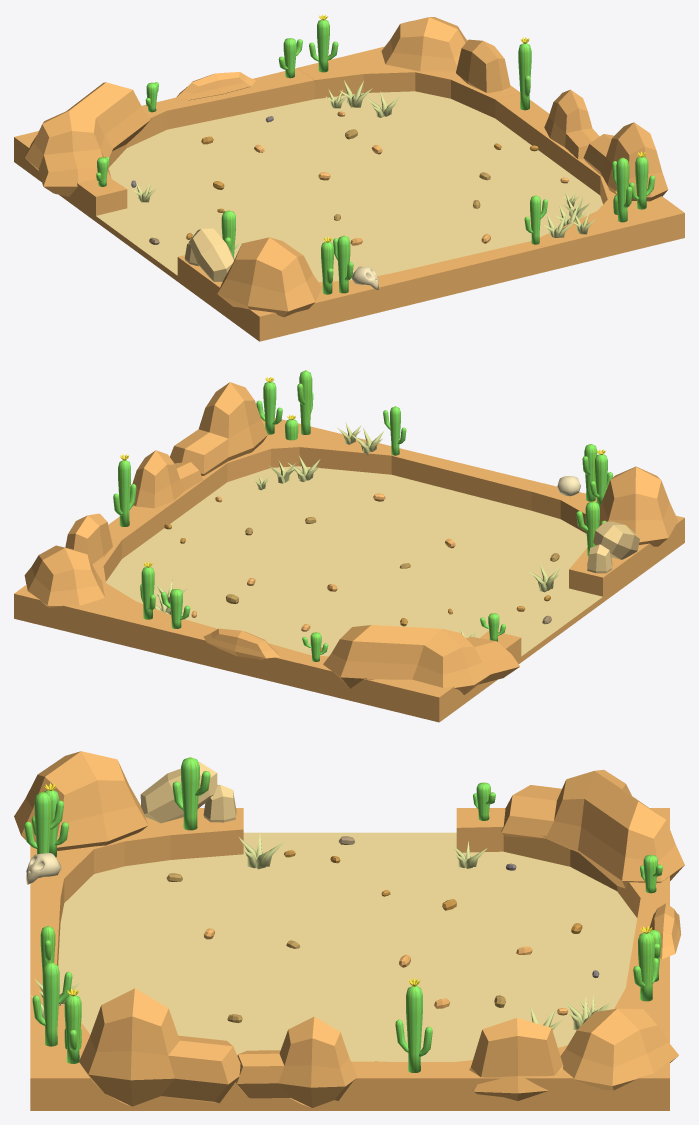
The model's file is desert level set - 1 Way (2).fbx.
The picture shows the model from 3 angles, top to bottom: view 1: azimuth 30°, elevation 25°; view 2: azimuth 150°, elevation 25°; view 3: azimuth 270°, elevation 25°; orthographic projection. The views are drawn at different scales.
Parts seen in each view (by area): view 1: land_platform_001, Cube_004, Cube_005, Cube_002, Cube_009, Cube_001, Cube_006, Cube_007, Cube_000, CACTUS_009, CACTUS_010, CACTUS_001 (+6 smaller); view 2: land_platform_001, Cube_004, Cube_009, Cube_005, Cube_002, Cube_001, Cube_007, Cube_006, Cube_000, CACTUS_005, CACTUS_001, CACTUS_009 (+6 smaller); view 3: land_platform_001, Cube_009, Cube_004, Cube_005, Cube_001, Cube_002, Cube_006, Cube_007, CACTUS_005, CACTUS_009, CACTUS_006, CACTUS_002 (+9 smaller).
Boxes of the visible parts, x1=… form: land_platform_001: x1=14, y1=46, x2=684, y2=341; Cube_004: x1=25, y1=82, x2=150, y2=196; Cube_005: x1=217, y1=237, x2=321, y2=317; Cube_002: x1=381, y1=17, x2=467, y2=71; Cube_009: x1=583, y1=122, x2=668, y2=201; Cube_001: x1=544, y1=89, x2=599, y2=159; Cube_006: x1=456, y1=39, x2=510, y2=92; Cube_007: x1=184, y1=228, x2=234, y2=281; Cube_000: x1=176, y1=72, x2=255, y2=100; CACTUS_009: x1=612, y1=157, x2=632, y2=222; CACTUS_010: x1=309, y1=14, x2=338, y2=72; CACTUS_001: x1=629, y1=151, x2=655, y2=209; land_platform_001: x1=14, y1=418, x2=684, y2=722; Cube_004: x1=323, y1=625, x2=519, y2=694; Cube_009: x1=170, y1=382, x2=267, y2=475; Cube_005: x1=599, y1=466, x2=677, y2=546; Cube_002: x1=24, y1=545, x2=104, y2=607; Cube_001: x1=132, y1=450, x2=203, y2=508; Cube_007: x1=587, y1=521, x2=639, y2=573; Cube_006: x1=65, y1=513, x2=112, y2=564; Cube_000: x1=203, y1=628, x2=279, y2=659; CACTUS_005: x1=113, y1=454, x2=136, y2=526; CACTUS_001: x1=256, y1=377, x2=282, y2=434; CACTUS_009: x1=297, y1=370, x2=313, y2=434; land_platform_001: x1=30, y1=808, x2=669, y2=1110; Cube_009: x1=79, y1=988, x2=240, y2=1106; Cube_004: x1=501, y1=769, x2=684, y2=888; Cube_005: x1=14, y1=751, x2=148, y2=850; Cube_001: x1=235, y1=1016, x2=357, y2=1107; Cube_002: x1=560, y1=1008, x2=678, y2=1090; Cube_006: x1=469, y1=1018, x2=563, y2=1100; Cube_007: x1=140, y1=762, x2=236, y2=823; CACTUS_005: x1=395, y1=977, x2=432, y2=1072; CACTUS_009: x1=32, y1=962, x2=72, y2=1046; CACTUS_006: x1=172, y1=757, x2=210, y2=830; CACTUS_002: x1=24, y1=792, x2=63, y2=854.
Bounding box in the file's own units: 16.67 × 3.3 × 15.92.
